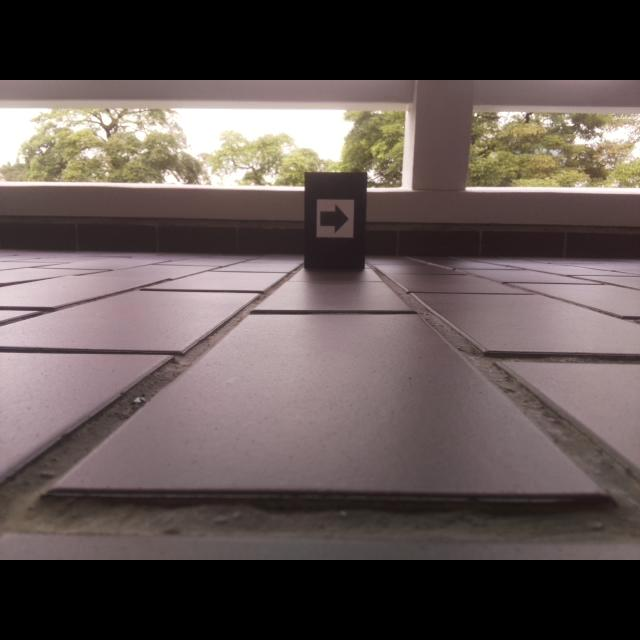RIGHT: (319, 203, 350, 234)
